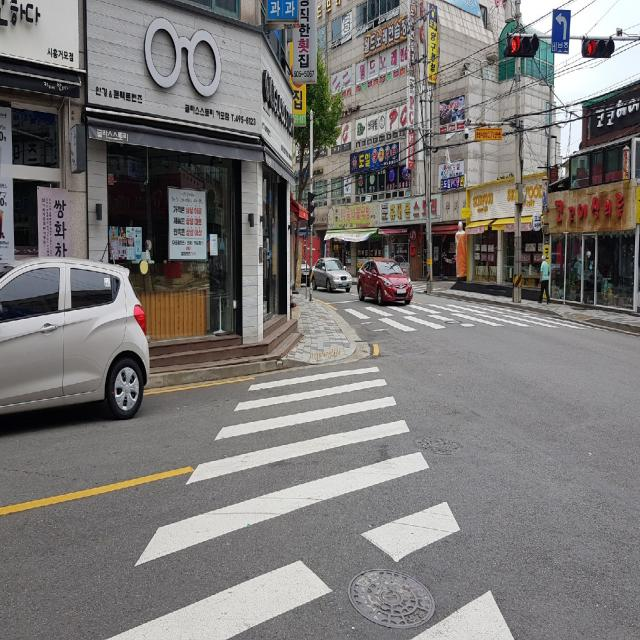횡단보도: (106, 363, 515, 639), (352, 308, 538, 330)
